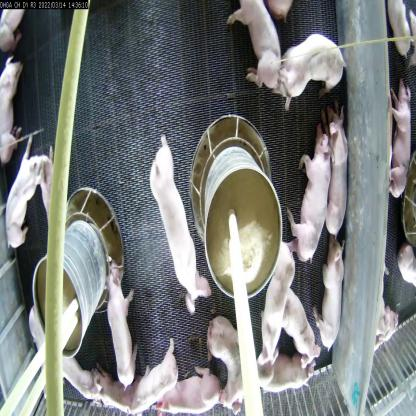Pig: (147, 138, 210, 312), (290, 122, 333, 268), (203, 304, 250, 416), (257, 240, 298, 362), (274, 33, 340, 108), (230, 0, 280, 93), (102, 261, 136, 392), (1, 142, 39, 258), (123, 346, 179, 415), (252, 350, 316, 407), (273, 288, 319, 364), (325, 114, 352, 243), (314, 244, 345, 350), (52, 342, 106, 401), (0, 49, 23, 171), (83, 365, 139, 415), (162, 370, 219, 415), (34, 140, 56, 236)
